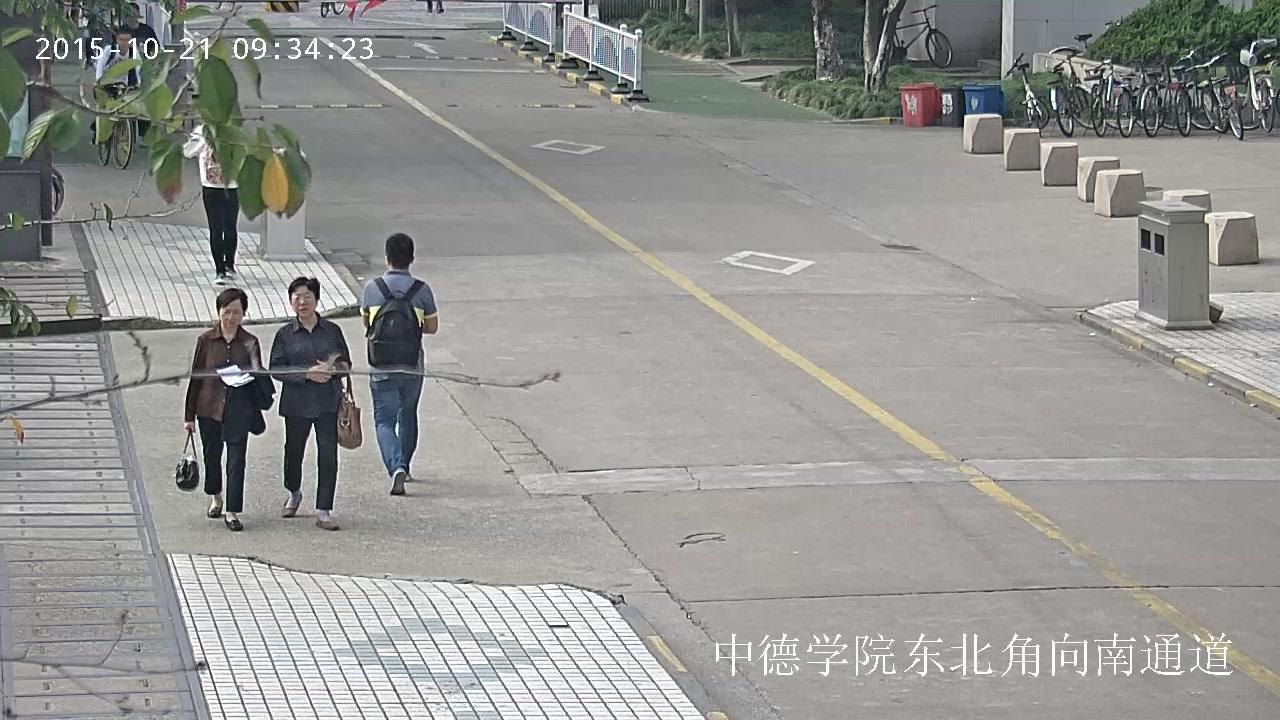face: (291, 285, 315, 316), (220, 299, 242, 328), (118, 33, 130, 51), (127, 5, 138, 21)
